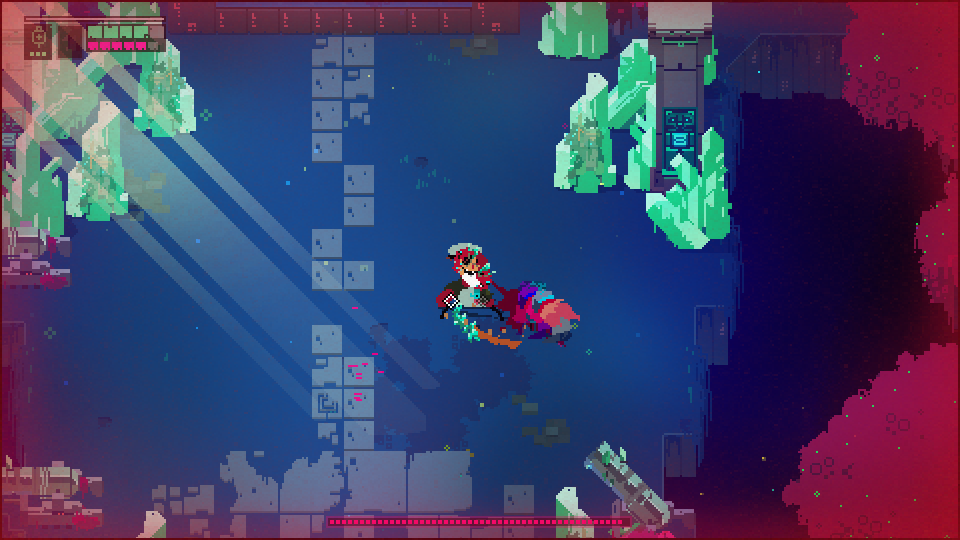hanged_man: (436, 238, 507, 348)
player: (533, 292, 583, 341)
